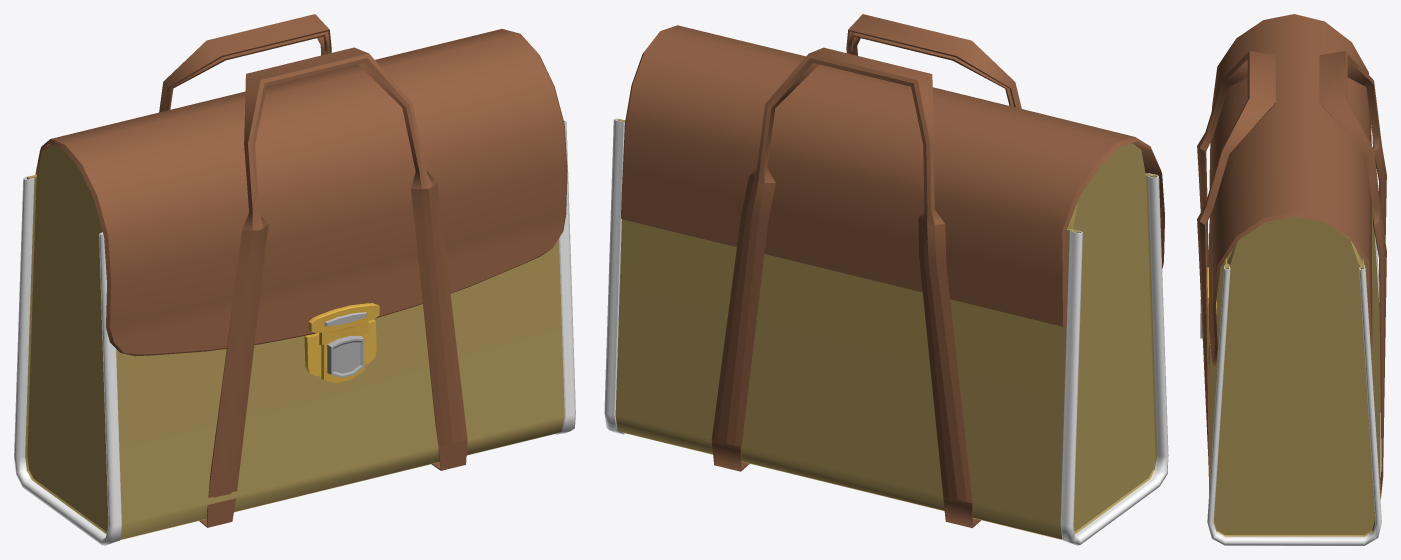
File: Business.fbx
3 views of the same model, side by side, from view 1: azimuth 30°, elevation 25°; view 2: azimuth 150°, elevation 25°; view 3: azimuth 270°, elevation 25° (orthographic). The views are drawn at different scales.
Parts seen in each view (by area): view 1: polySurface79.006; view 2: polySurface79.006; view 3: polySurface79.006.
Boxes of the visible parts, box(x1,y1,x2,y2) form: polySurface79.006: box(14, 14, 575, 545); polySurface79.006: box(604, 14, 1168, 545); polySurface79.006: box(1197, 14, 1386, 545).
Bounding box in the file's own units: 0.6676 × 0.5665 × 0.2634.
